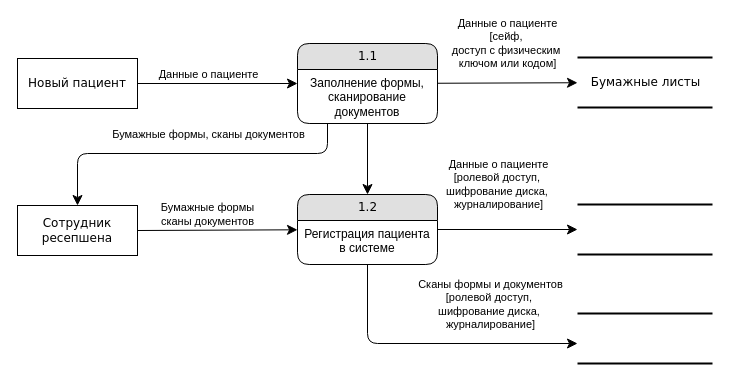
This 731x382 diagram has some shape labels left out. Each missing label, with the box of its shape:
Excel файл в папке Paсients: (576, 203, 713, 255)
Файлы в разном формате: (576, 312, 713, 364)
